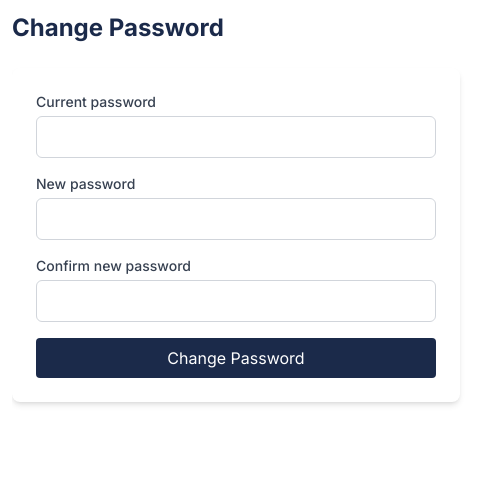
Test: Admin change-password page (/admin/change-password) › shows an inline error when the new passwords do not match
The width and height of the screenshot is (478, 485).
In the password field labelled "Current password": (236, 137) x1=36 y1=116 x2=436 y2=158, type "old-pass-123"
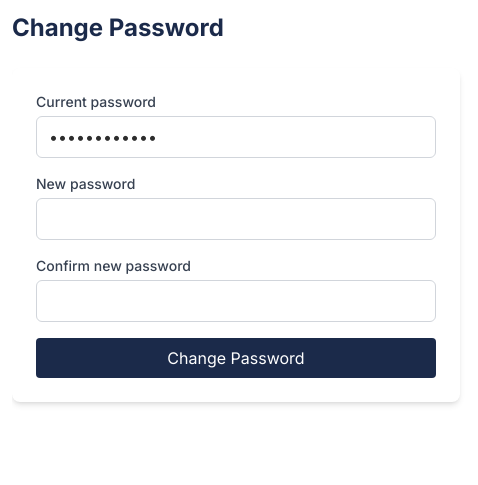
In the password field labelled "New password": (236, 219) x1=36 y1=198 x2=436 y2=240, type "new-pass-123"
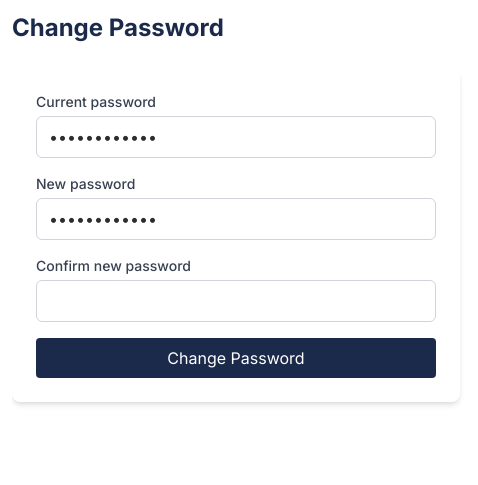
In the password field labelled "Confirm new password": (236, 301) x1=36 y1=280 x2=436 y2=322, type "different-123"
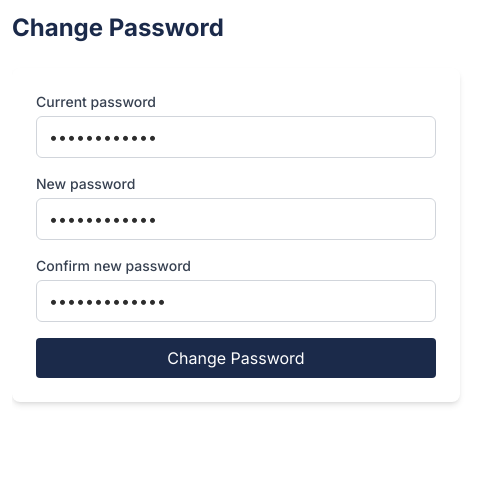
Click the button "Change Password": (236, 358) x1=36 y1=338 x2=436 y2=378
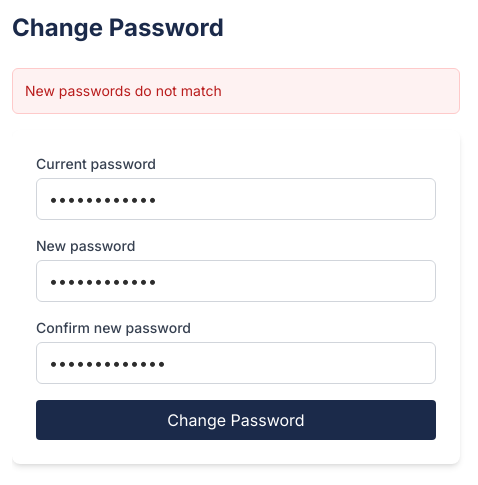
Expected: the text "New passwords do not match" is shown, x1=12 y1=68 x2=460 y2=114
